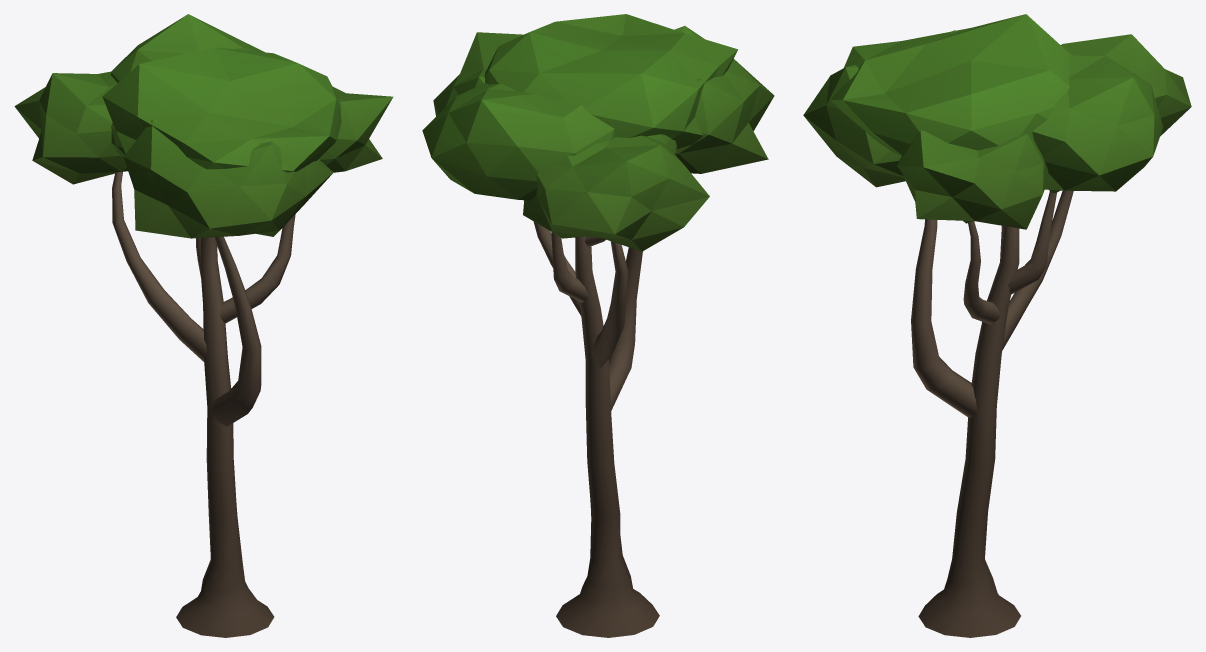
File: prop_tree_C.FBX
The picture shows the model from 3 angles, left to right: view 1: azimuth 30°, elevation 25°; view 2: azimuth 150°, elevation 25°; view 3: azimuth 270°, elevation 25°; orthographic projection. The views are drawn at different scales.
Visible parts, largest first — view 1: prop_tree_c; view 2: prop_tree_c; view 3: prop_tree_c.
Part boxes in pixels (<box>): prop_tree_c: <box>14,14,393,637</box>; prop_tree_c: <box>422,14,774,637</box>; prop_tree_c: <box>803,14,1191,637</box>.
Bounding box in the file's own units: 150 × 271 × 167.
1 material, 1 textured.
